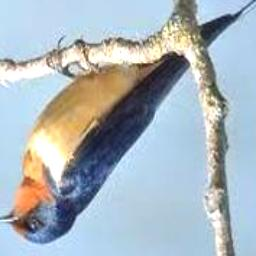Swallow: (0, 0, 256, 245)
